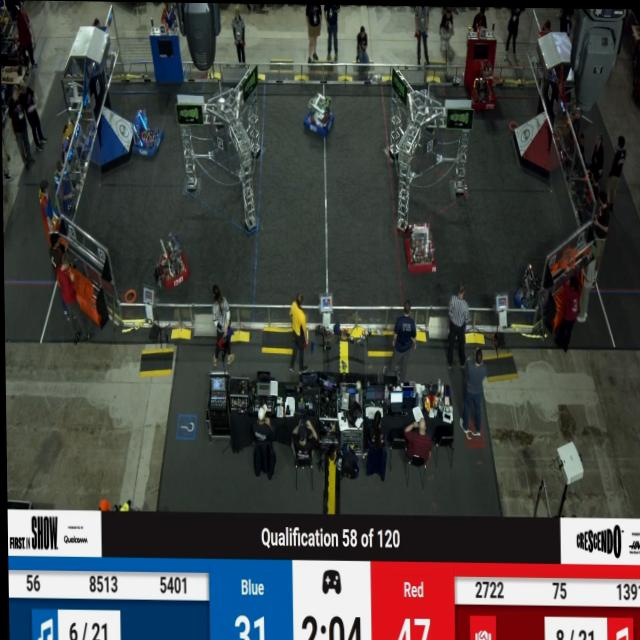Robot: (509, 250, 547, 325), (400, 219, 439, 275), (155, 230, 190, 292), (129, 105, 164, 160), (303, 89, 336, 139), (469, 60, 497, 111)
